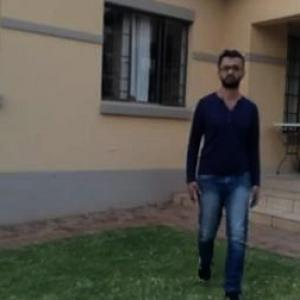follow: (181, 40, 263, 299)
